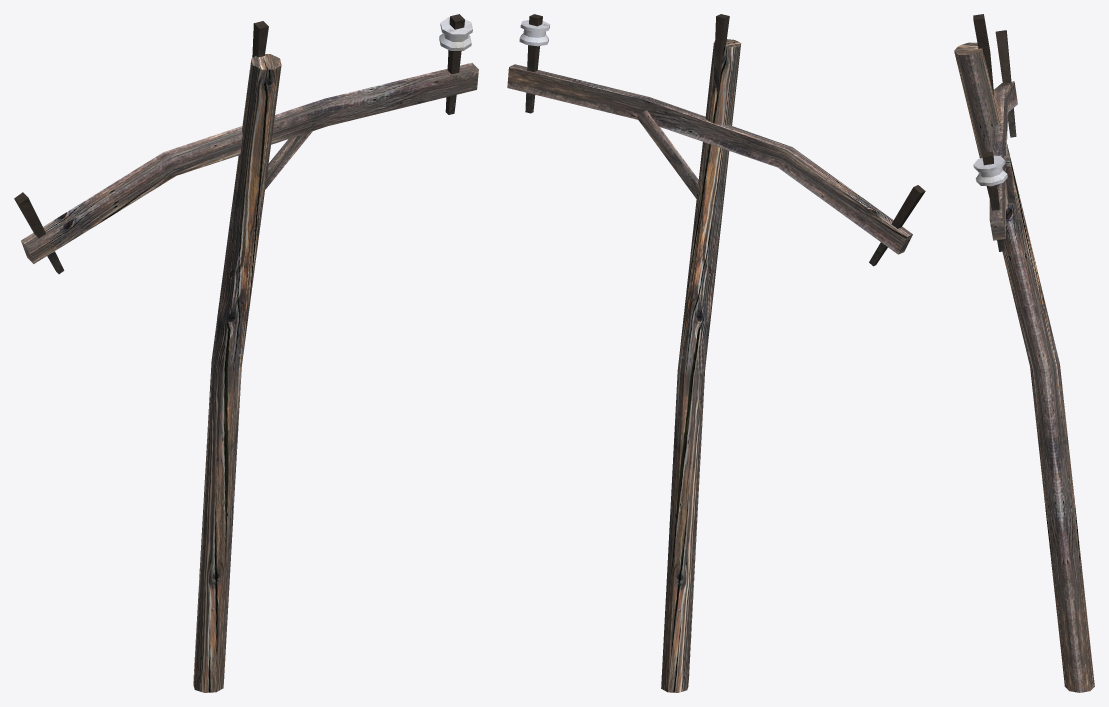
File: pole_broken_01.fbx
The picture shows the model from 3 angles, left to right: view 1: azimuth 30°, elevation 25°; view 2: azimuth 150°, elevation 25°; view 3: azimuth 270°, elevation 25°; orthographic projection. The views are drawn at different scales.
Parts seen in each view (by area): view 1: pole_broken_01; view 2: pole_broken_01; view 3: pole_broken_01.
Part boxes in pixels (left/top/right/bottom): pole_broken_01: left=14, top=14, right=478, bottom=692; pole_broken_01: left=507, top=14, right=925, bottom=692; pole_broken_01: left=954, top=14, right=1094, bottom=692.
Size of the model in its own units: 5.36 by 7.87 by 1.5.
